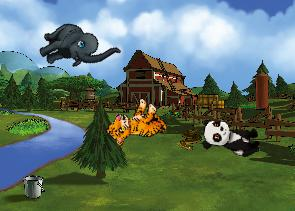elephant: (32, 5, 121, 89)
panda: (199, 117, 263, 158)
tiger: (102, 91, 172, 160)
